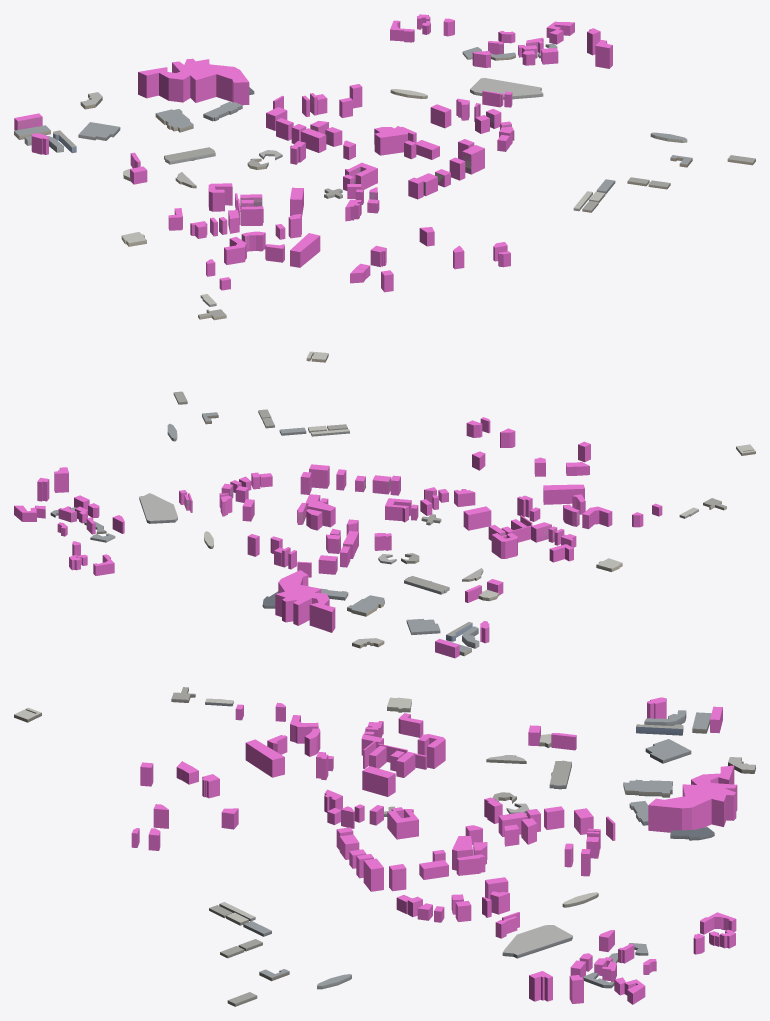
The model's file is bld_15_10.fbx.
The picture shows the model from 3 angles, top to bottom: view 1: azimuth 30°, elevation 25°; view 2: azimuth 150°, elevation 25°; view 3: azimuth 270°, elevation 25°; orthographic projection. The views are drawn at different scales.
Parts seen in each view (by area): view 1: bld_15_10_COL, bld_15_10_LOD0; view 2: bld_15_10_COL, bld_15_10_LOD0; view 3: bld_15_10_COL, bld_15_10_LOD0.
Boxes of the visible parts, x1=… form: bld_15_10_COL: x1=14, y1=14, x2=612, y2=292; bld_15_10_LOD0: x1=14, y1=19, x2=755, y2=362; bld_15_10_COL: x1=14, y1=417, x2=662, y2=658; bld_15_10_LOD0: x1=50, y1=391, x2=755, y2=656; bld_15_10_COL: x1=131, y1=697, x2=737, y2=1004; bld_15_10_LOD0: x1=14, y1=687, x2=755, y2=1006.
Size of what is drawn, in the model's own units: 2064 by 77.46 by 2043.
